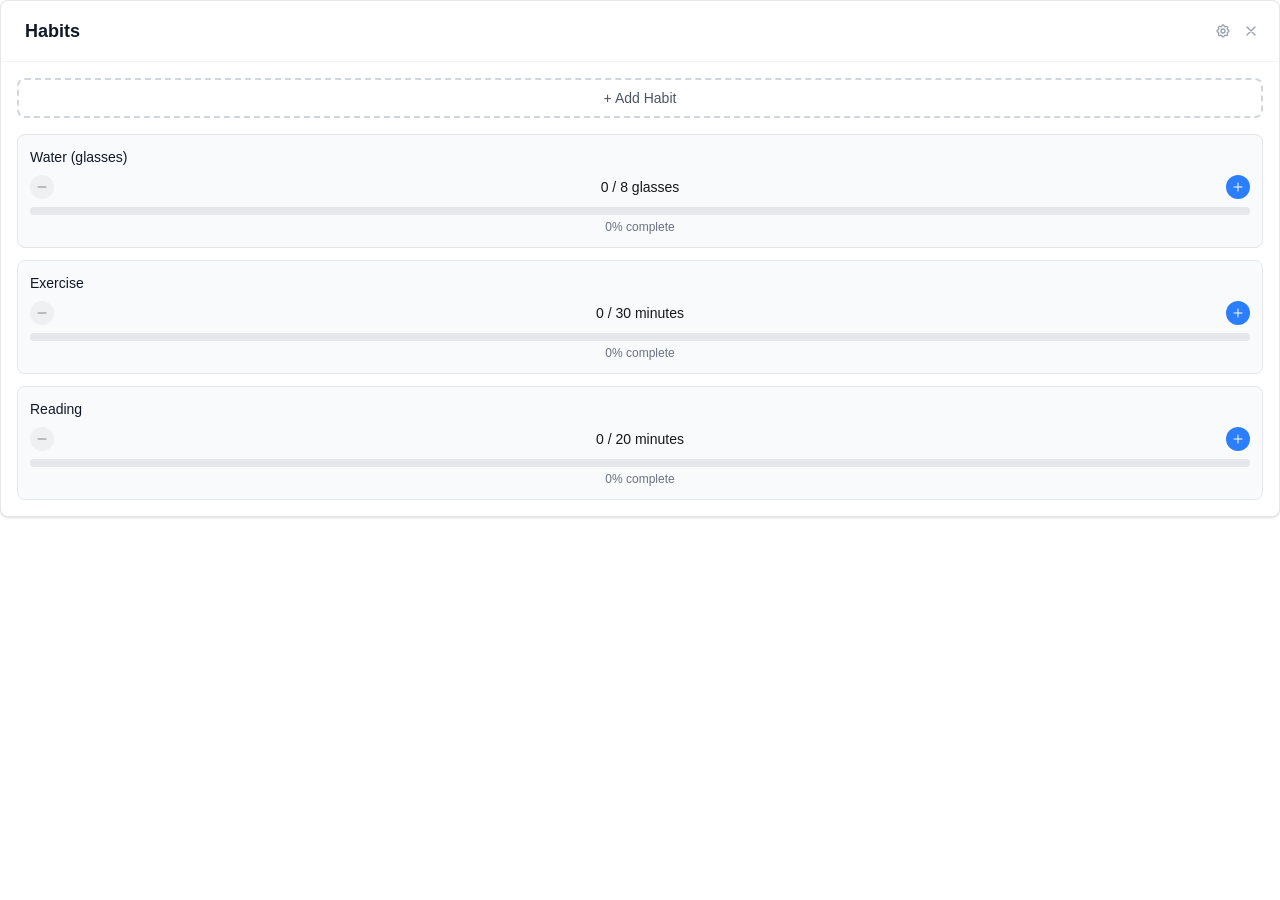
Test: HabitsWidget › habit management › should cancel habit creation when cancel button is clicked
Click the button "+ Add Habit": click(640, 98) [17,78,1263,118]
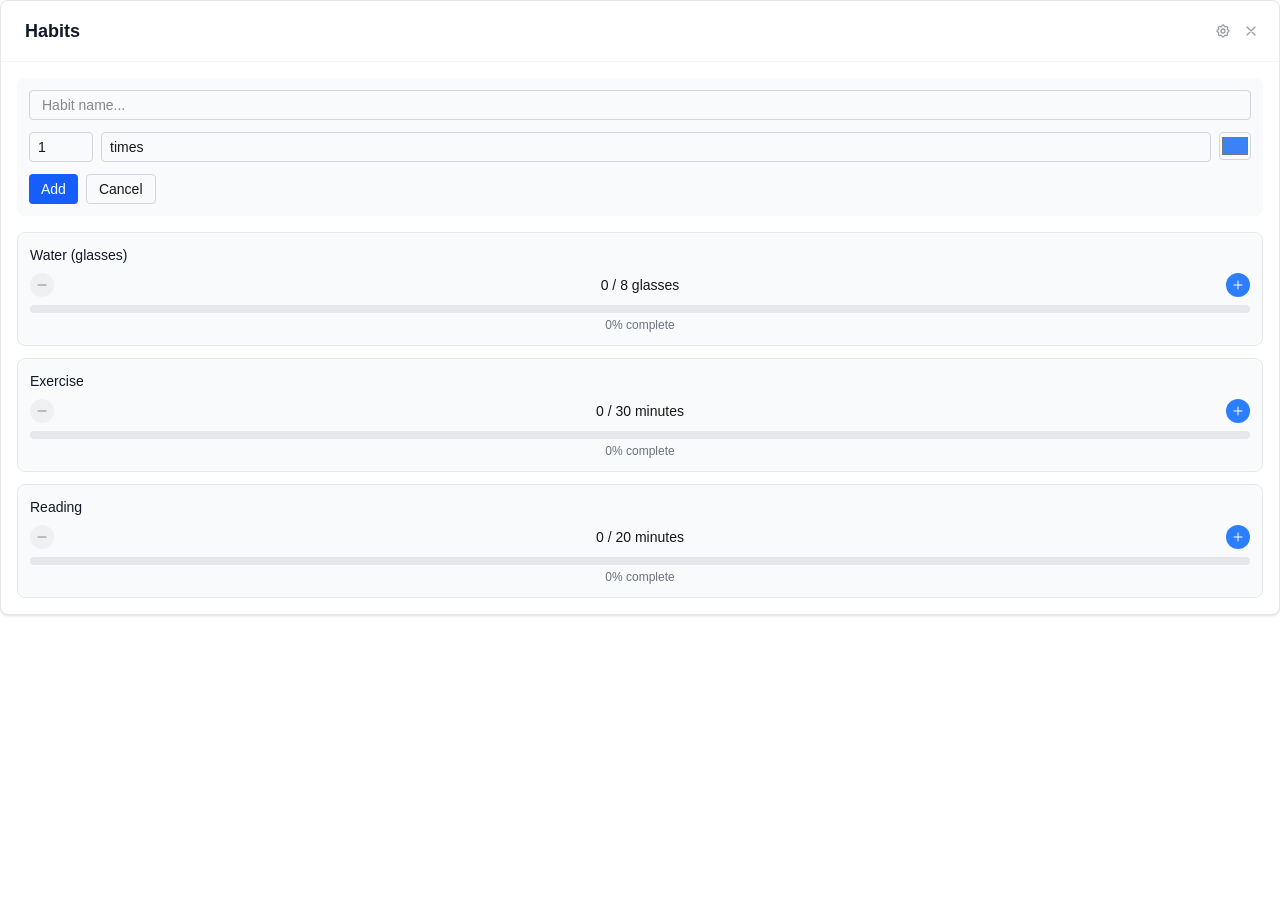
Result: the field with placeholder "Habit name..." is shown at [29,90,1251,120]
Click the button "Cancel": click(121, 189) [86,174,156,204]
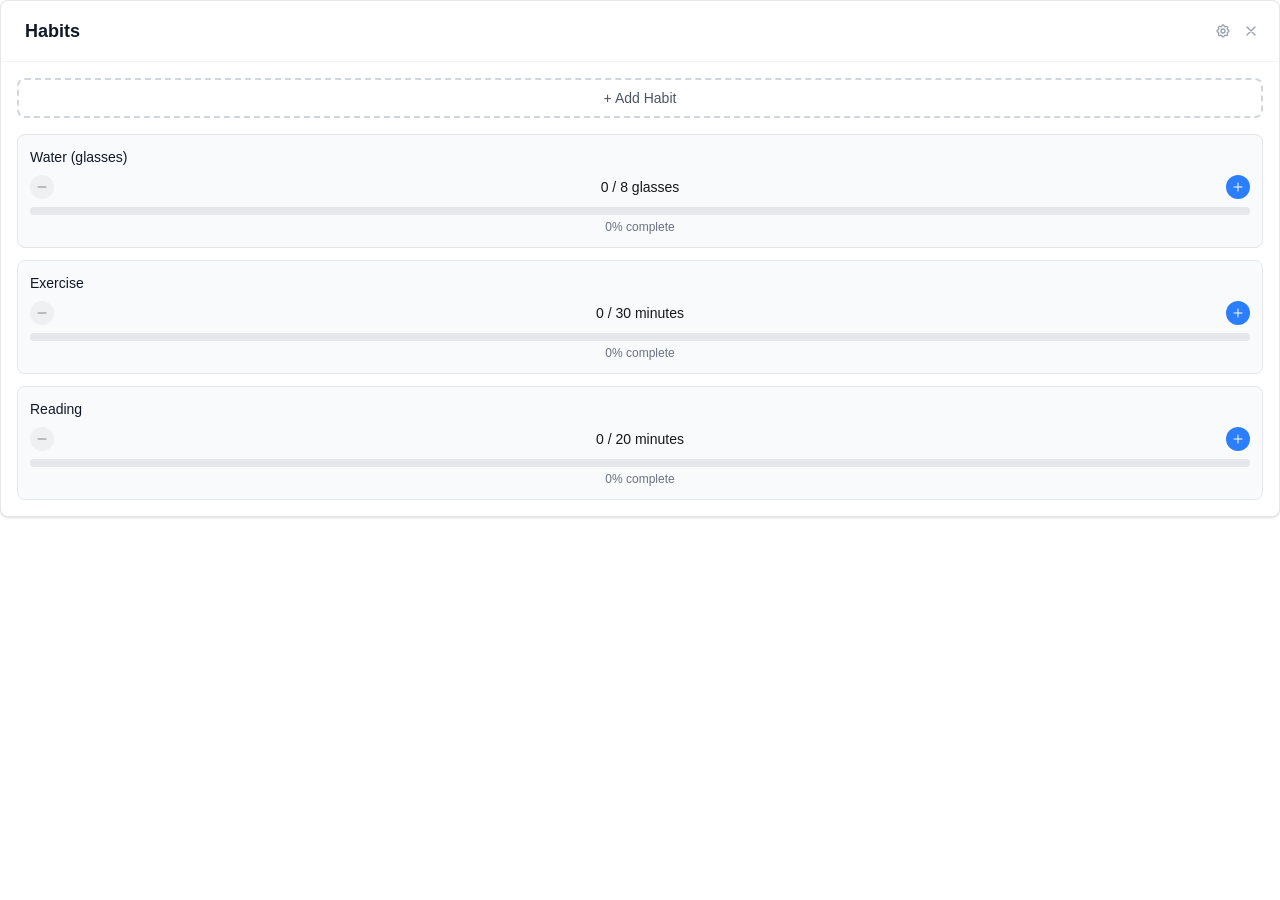
Expected: the field with placeholder "Habit name..." is not shown
Result: the button "+ Add Habit" is shown at [17,78,1263,118]
